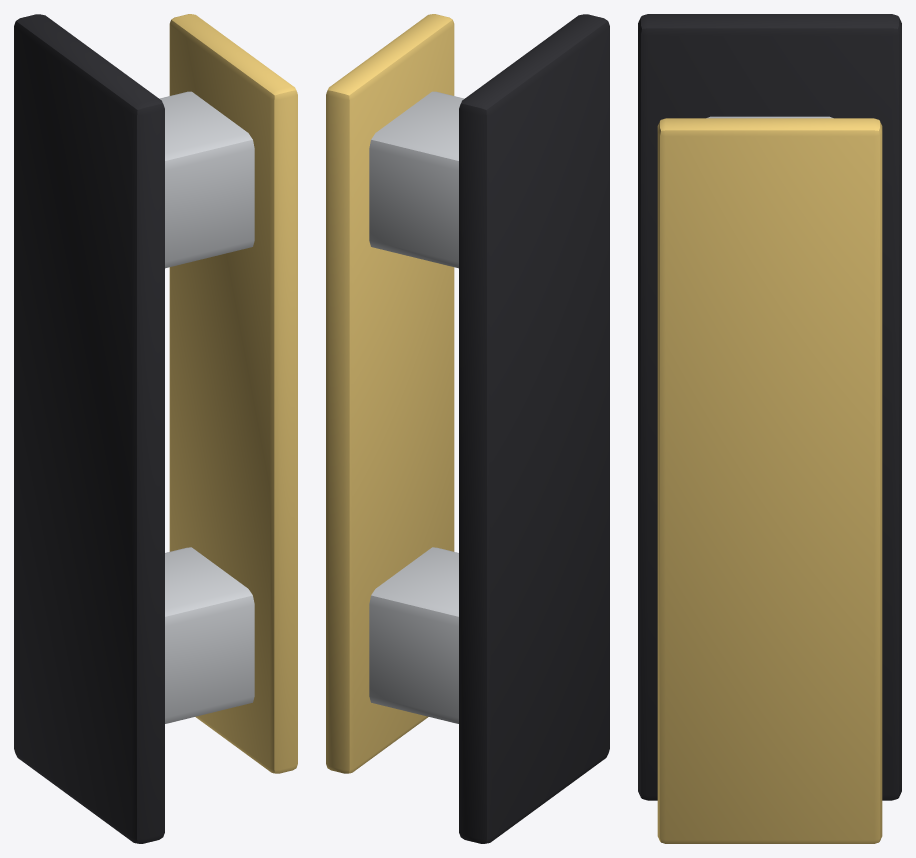
Rendered from radial_decoupler.glb.
3 views of the same model, side by side, from view 1: azimuth 30°, elevation 25°; view 2: azimuth 150°, elevation 25°; view 3: azimuth 270°, elevation 25° (orthographic). The views are drawn at different scales.
Parts seen in each view (by area): view 1: radial_decoupler; view 2: radial_decoupler; view 3: radial_decoupler.
Part boxes in pixels (<box>): radial_decoupler: <box>14,14,297,843</box>; radial_decoupler: <box>326,14,609,843</box>; radial_decoupler: <box>638,14,901,843</box>.
Bounding box in the file's own units: 0.32 × 1.3 × 0.4.
